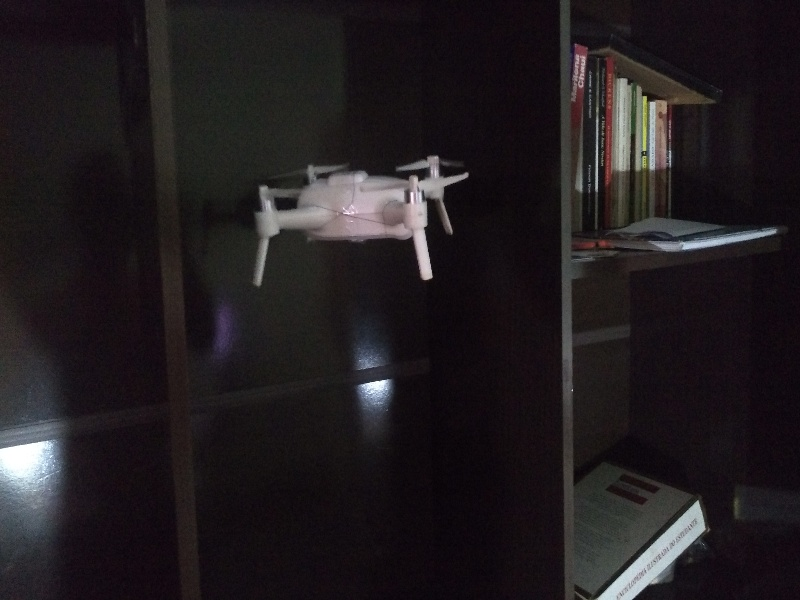drone: (243, 152, 477, 284)
